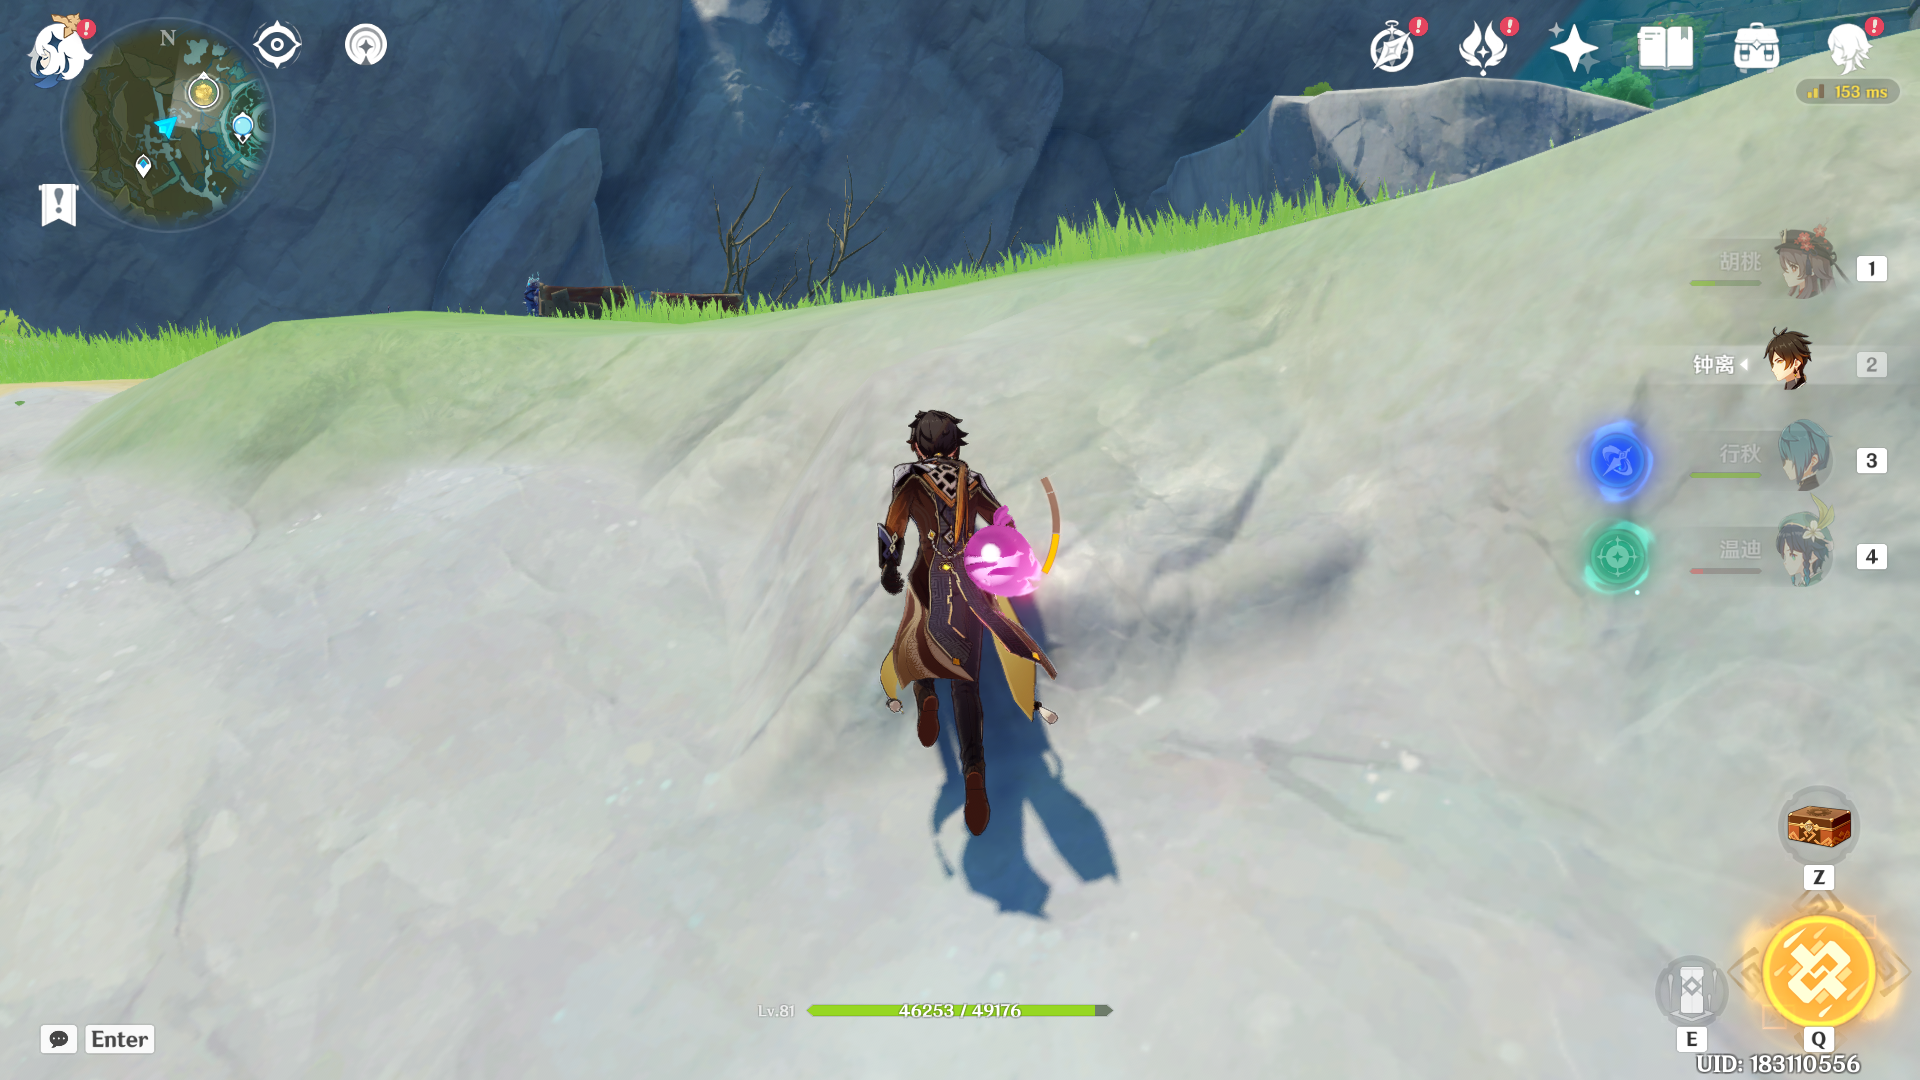character: (783, 332, 1145, 841)
